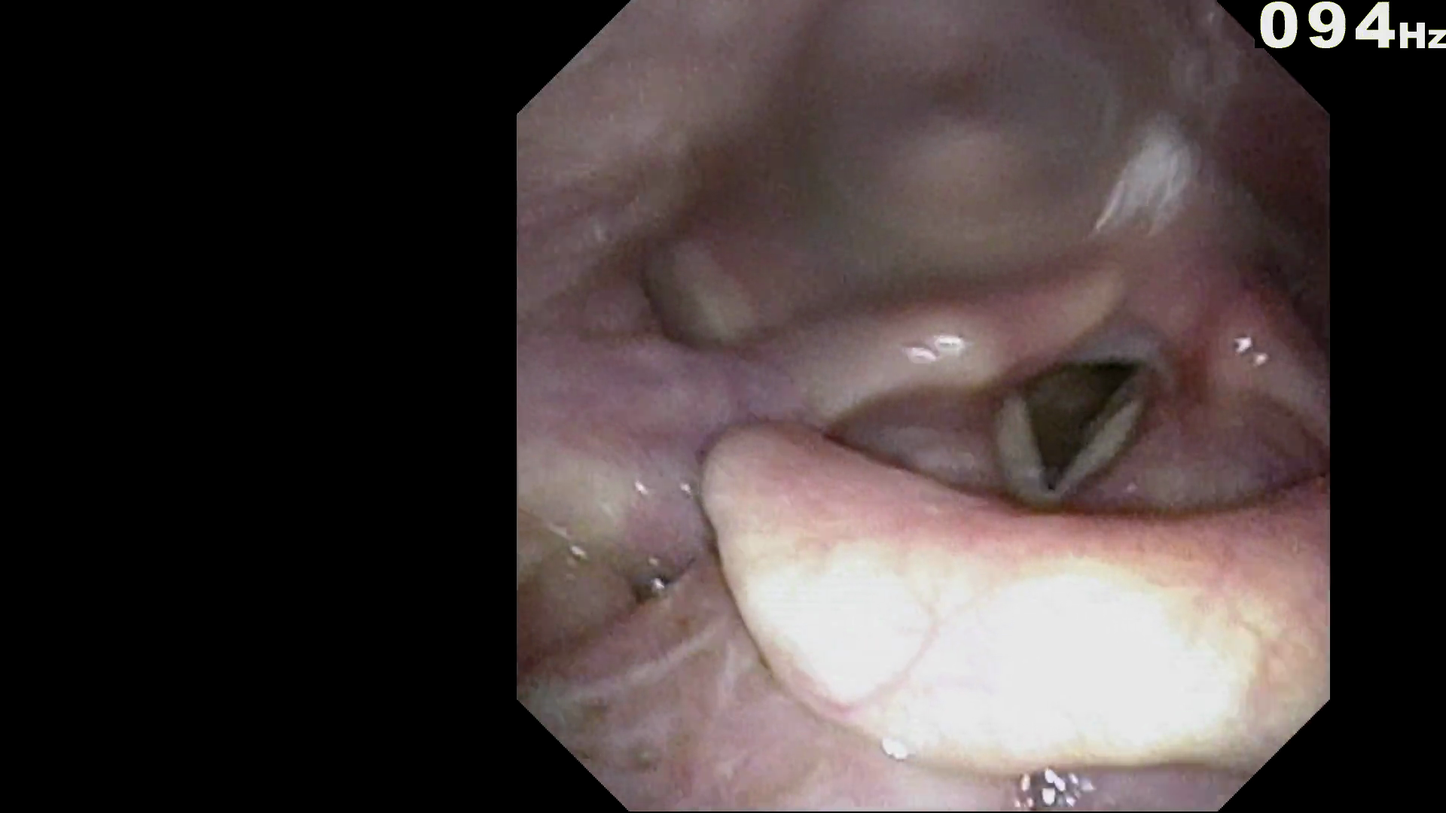epiglottis: (728, 482, 1313, 707)
trachea: (995, 346, 1151, 493)
